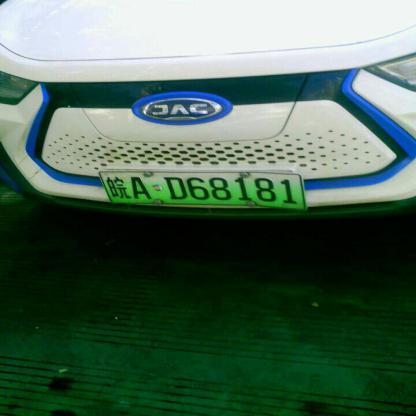lp: (98, 170, 304, 209)
